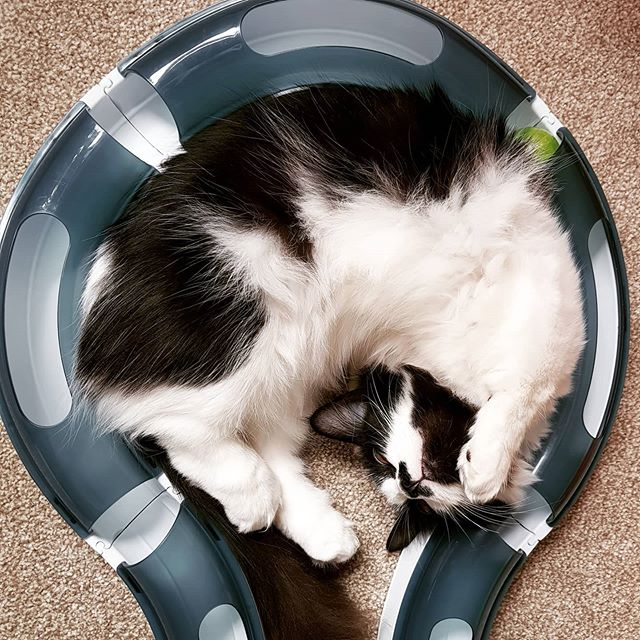cat: (302, 356, 505, 556)
